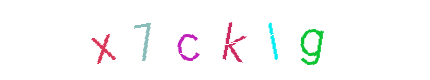7: (140, 0, 220, 80)
C: (161, 0, 241, 80)
G: (272, 0, 352, 80)
K: (174, 0, 254, 80)
L: (233, 0, 313, 80)
X: (135, 0, 215, 80)
